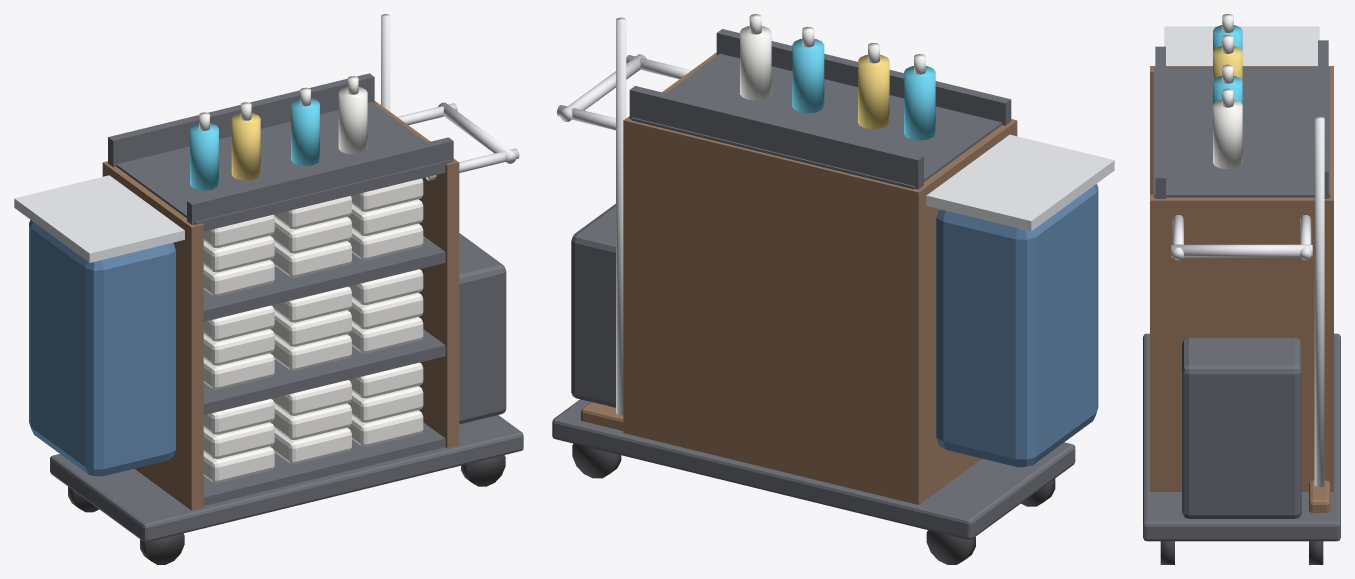
File: hotel_housekeeping_cart.glb
The picture shows the model from 3 angles, left to right: view 1: azimuth 30°, elevation 25°; view 2: azimuth 150°, elevation 25°; view 3: azimuth 270°, elevation 25°; orthographic projection. The views are drawn at different scales.
Visible parts, largest first — view 1: BaseDeck; view 2: BaseDeck; view 3: BaseDeck.
Boxes of the visible parts, bbox=[...] form: BaseDeck: bbox=[14, 14, 523, 564]; BaseDeck: bbox=[552, 14, 1114, 564]; BaseDeck: bbox=[1143, 14, 1340, 564].
Size of the model in its own units: 1.46 by 1.35 by 0.56.
